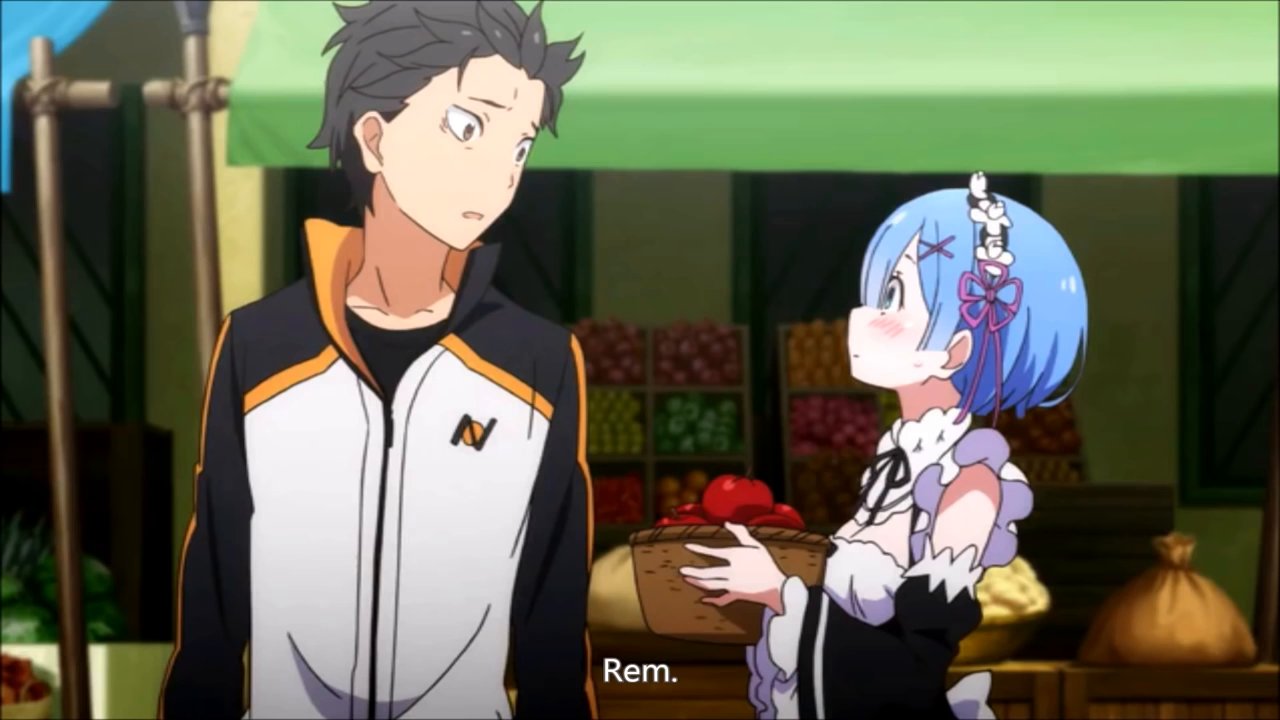REM: (837, 171, 1090, 425)
